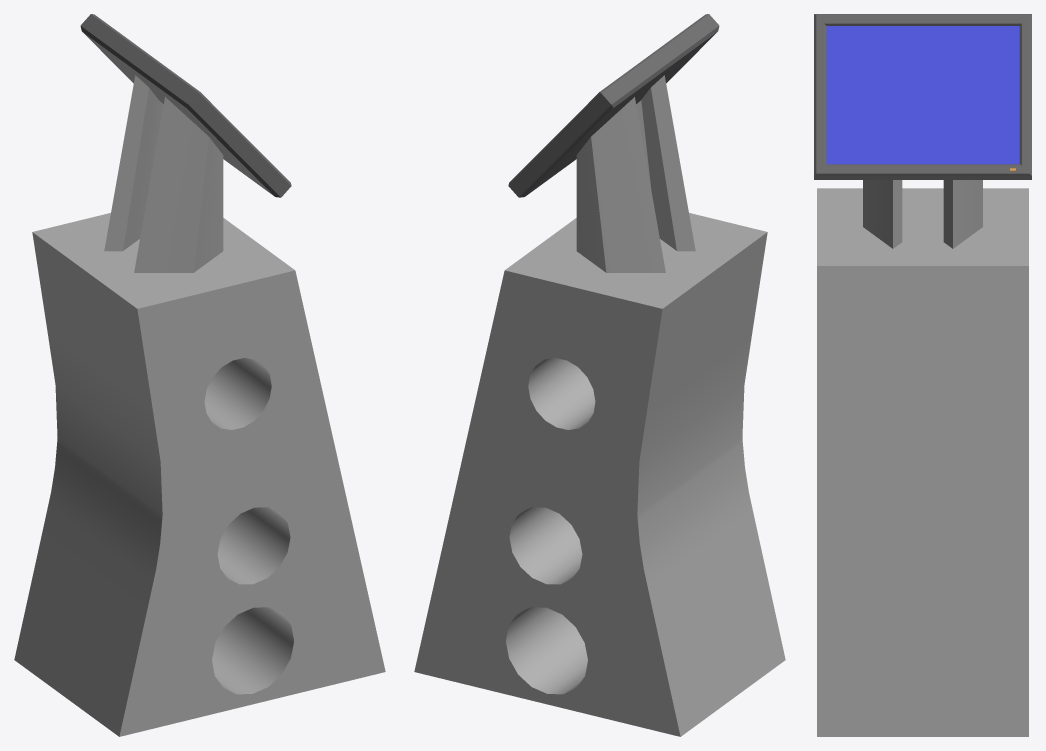
File: Computer_Terminal.fbx
The picture shows the model from 3 angles, left to right: view 1: azimuth 30°, elevation 25°; view 2: azimuth 150°, elevation 25°; view 3: azimuth 270°, elevation 25°; orthographic projection.
Visible parts, largest first — view 1: Terminal; view 2: Terminal; view 3: Terminal.
Part boxes in pixels (x1,y1,x2,y2): Terminal: (14, 14, 385, 736); Terminal: (414, 14, 785, 736); Terminal: (814, 14, 1031, 736).
Bounding box in the file's own units: 75.24 × 169 × 52.89.
